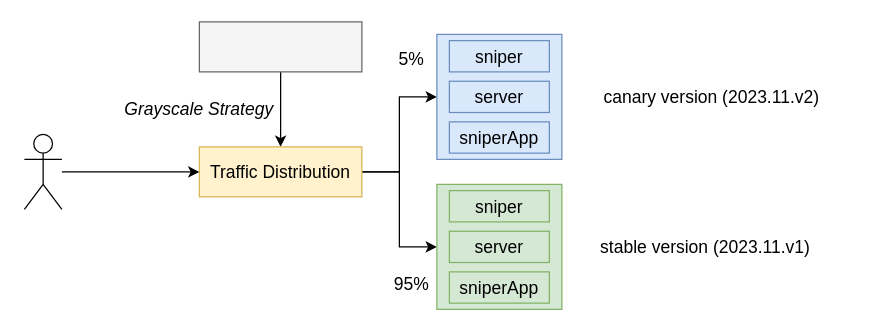
The diagram is 871 pixels wide and 331 high, and some of its shapes have lost their labels. The box of each missing label's shape, as (x1, y1, x2, y2) in pixels:
Config Center: (198, 21, 362, 72)
Users: (23, 133, 62, 209)
